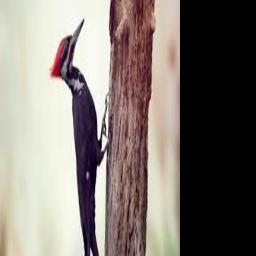Woodpecker: (50, 17, 109, 256)
